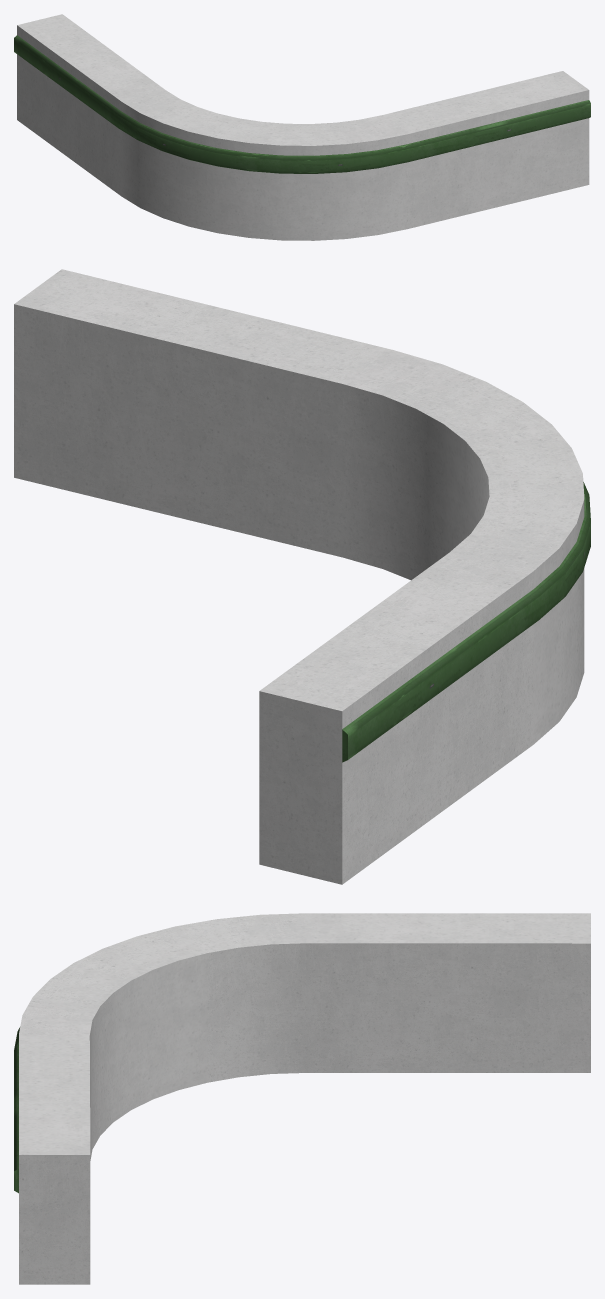
Rendered from MB_Parapet_D_Angle_01.fbx.
3 renders of one model, top to bottom at view 1: azimuth 30°, elevation 25°; view 2: azimuth 150°, elevation 25°; view 3: azimuth 270°, elevation 25°, orthographic. The views are drawn at different scales.
Visible parts, largest first — view 1: MB_Parapet_Angle_D_01_LOD0; view 2: MB_Parapet_Angle_D_01_LOD0; view 3: MB_Parapet_Angle_D_01_LOD0.
Part boxes in pixels (<box>): MB_Parapet_Angle_D_01_LOD0: <box>14,14,590,240</box>; MB_Parapet_Angle_D_01_LOD0: <box>14,269,590,884</box>; MB_Parapet_Angle_D_01_LOD0: <box>14,913,590,1284</box>.
Size of what is drawn, in the model's own units: 403 by 100 by 403.
